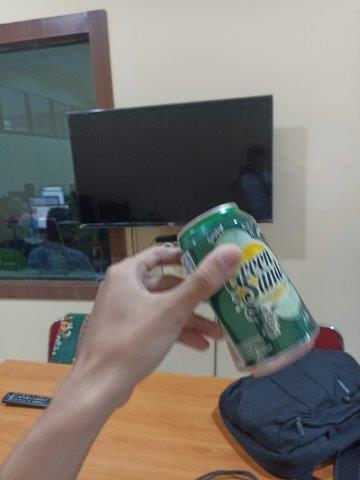kaleng: (175, 201, 321, 378)
